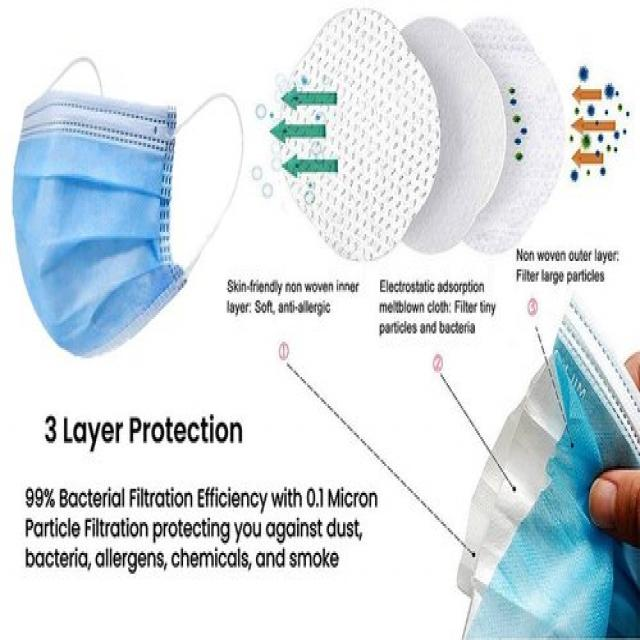non-organic waste: (12, 77, 243, 358)
